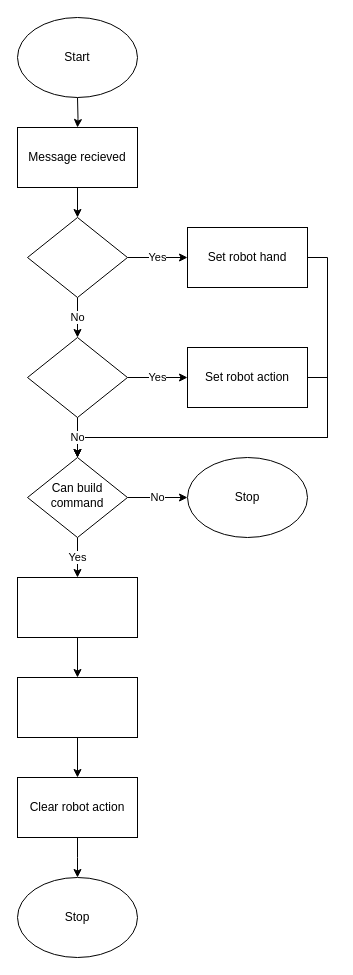
Image size: 353x975. Some labels were removed from this diagram. The box of each missing label's shape, as (x1, y1, x2, y2) in pixels:
Action in msg: (26, 336, 128, 418)
Create socket command: (16, 576, 138, 638)
Hand in msg: (26, 216, 128, 298)
Send socket command: (16, 676, 138, 738)
